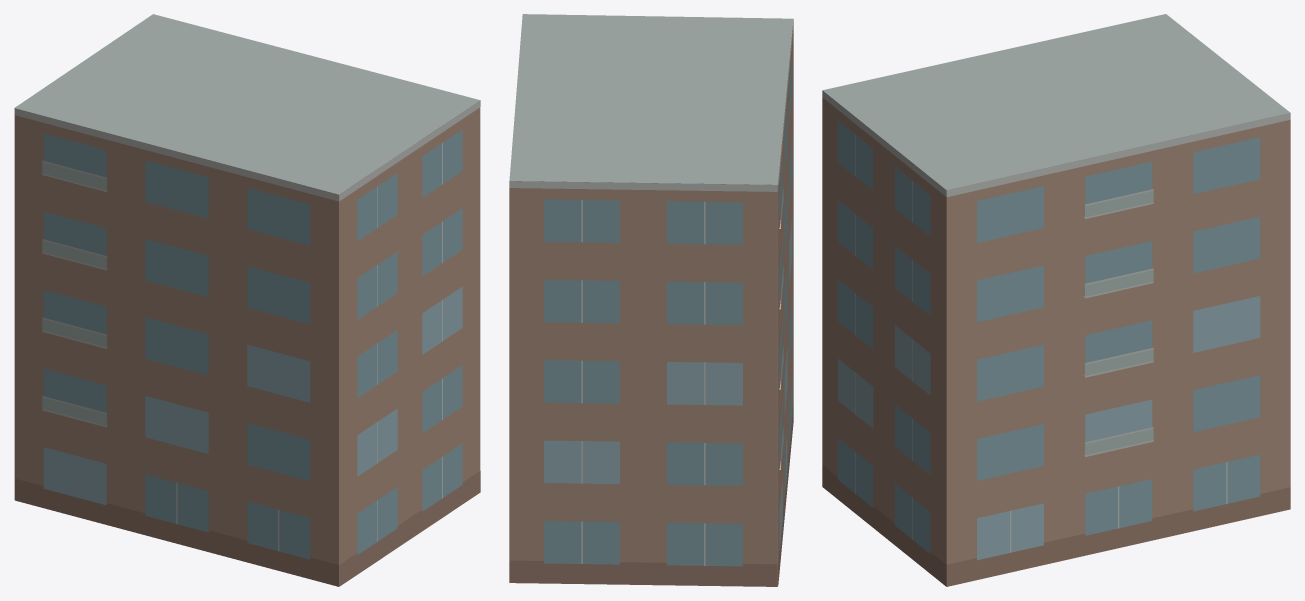
The model's file is survey-upis-32840739.glb.
3 views of the same model, side by side, from view 1: azimuth 30°, elevation 25°; view 2: azimuth 150°, elevation 25°; view 3: azimuth 270°, elevation 25° (orthographic). The views are drawn at different scales.
Parts seen in each view (by area): view 1: survey-upis-32840739.tmp; view 2: survey-upis-32840739.tmp; view 3: survey-upis-32840739.tmp.
Boxes of the visible parts, x1=… form: survey-upis-32840739.tmp: x1=14, y1=14, x2=480, y2=586; survey-upis-32840739.tmp: x1=509, y1=14, x2=793, y2=586; survey-upis-32840739.tmp: x1=822, y1=14, x2=1290, y2=586.
Size of the model in its own units: 13.23 by 13.87 by 14.85.
